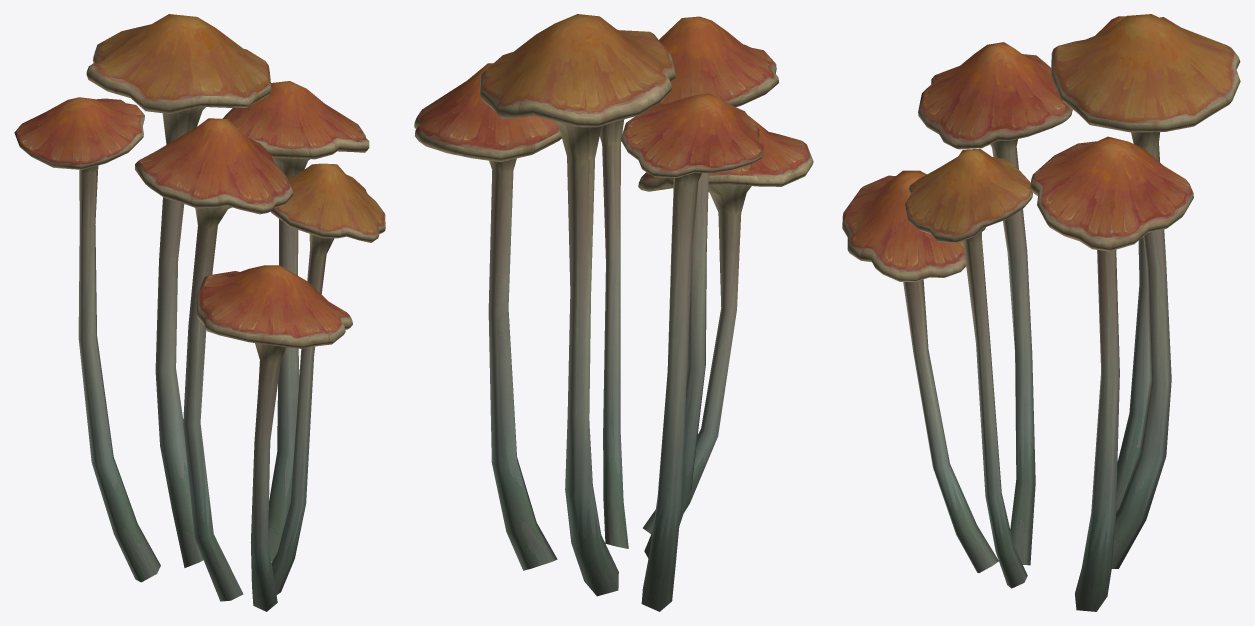
File: Homeworld_Exterior_Xm_Plant_Tree_Mushroom_02_Lod0.fbx
3 views of the same model, side by side, from view 1: azimuth 30°, elevation 25°; view 2: azimuth 150°, elevation 25°; view 3: azimuth 270°, elevation 25° (orthographic). The views are drawn at different scales.
Parts seen in each view (by area): view 1: Homeworld_Exterior_Xm_Plant_Tree_Mushroom_02_Lod0; view 2: Homeworld_Exterior_Xm_Plant_Tree_Mushroom_02_Lod0; view 3: Homeworld_Exterior_Xm_Plant_Tree_Mushroom_02_Lod0.
Boxes of the visible parts, box(x1,y1,x2,y2) form: Homeworld_Exterior_Xm_Plant_Tree_Mushroom_02_Lod0: box(14, 14, 385, 611); Homeworld_Exterior_Xm_Plant_Tree_Mushroom_02_Lod0: box(414, 14, 813, 611); Homeworld_Exterior_Xm_Plant_Tree_Mushroom_02_Lod0: box(842, 14, 1240, 611).
Bounding box in the file's own units: 4.57 × 7.27 × 4.72.
Materials: 1 (1 with a texture image).
